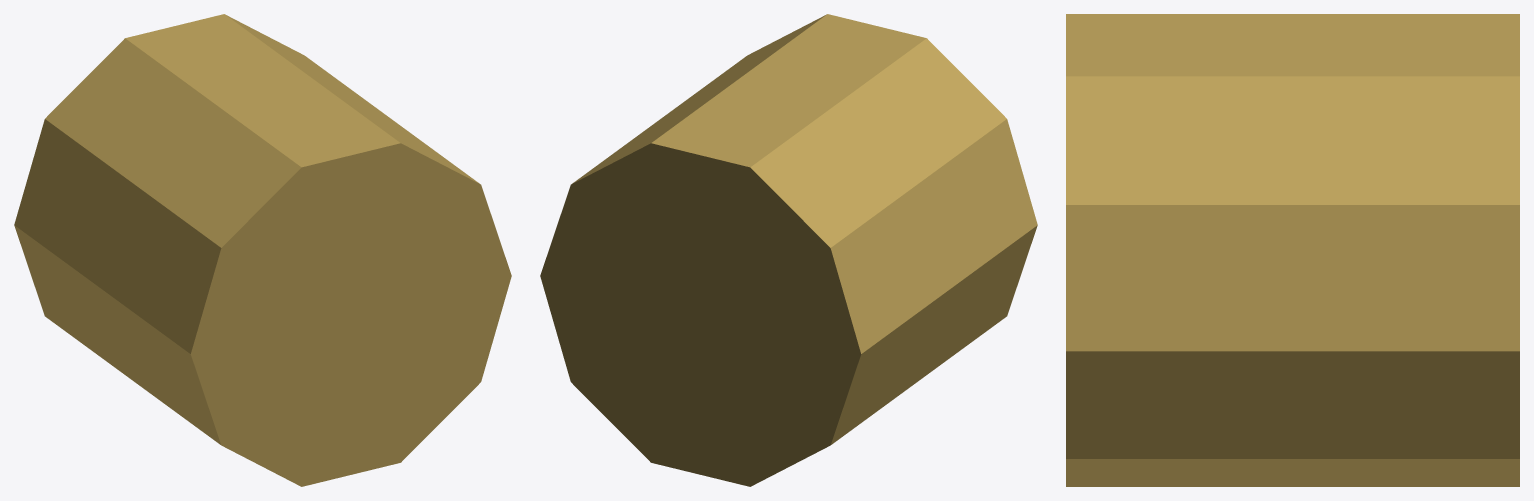
Rendered from hay_bale.glb.
3 renders of one model, left to right at view 1: azimuth 30°, elevation 25°; view 2: azimuth 150°, elevation 25°; view 3: azimuth 270°, elevation 25°, orthographic. The views are drawn at different scales.
Parts seen in each view (by area): view 1: hay_bale; view 2: hay_bale; view 3: hay_bale.
Part boxes in pixels (x1,y1,x2,y2): hay_bale: [14, 14, 511, 486]; hay_bale: [540, 14, 1037, 486]; hay_bale: [1066, 14, 1519, 486].
Bounding box in the file's own units: 0.84 × 0.7989 × 0.8.
